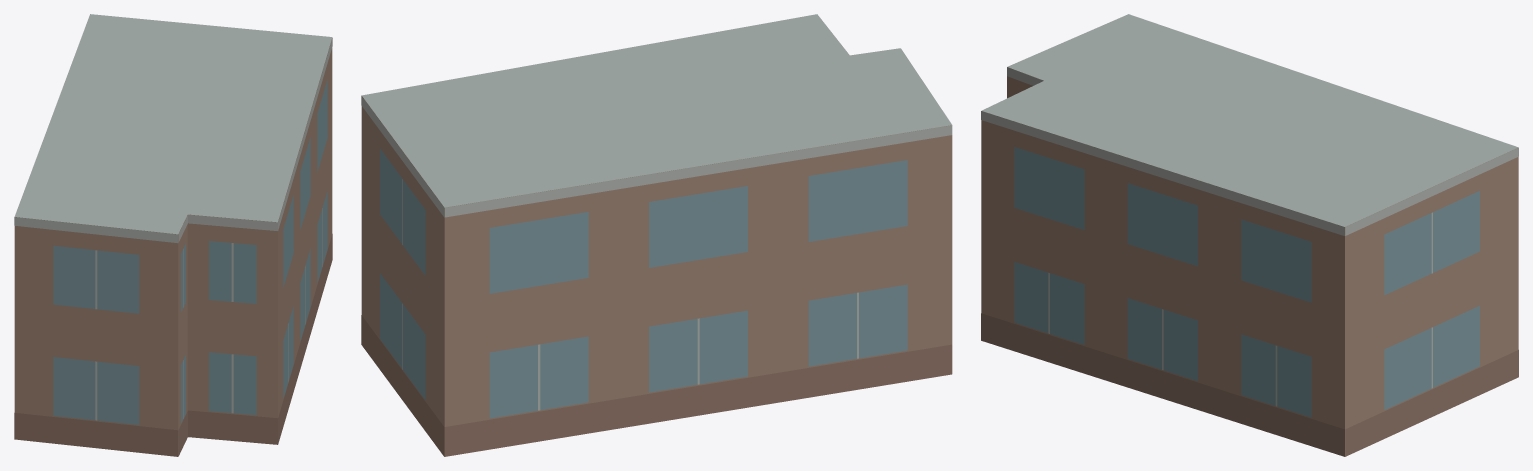
File: survey-upis-32978850.glb
The picture shows the model from 3 angles, left to right: view 1: azimuth 30°, elevation 25°; view 2: azimuth 150°, elevation 25°; view 3: azimuth 270°, elevation 25°; orthographic projection. The views are drawn at different scales.
Visible parts, largest first — view 1: survey-upis-32978850.tmp; view 2: survey-upis-32978850.tmp; view 3: survey-upis-32978850.tmp.
Part boxes in pixels (bbox=[...]): survey-upis-32978850.tmp: bbox=[14, 14, 332, 456]; survey-upis-32978850.tmp: bbox=[361, 14, 952, 456]; survey-upis-32978850.tmp: bbox=[981, 14, 1518, 456].
Bounding box in the file's own units: 12.14 × 6.1 × 12.94.
